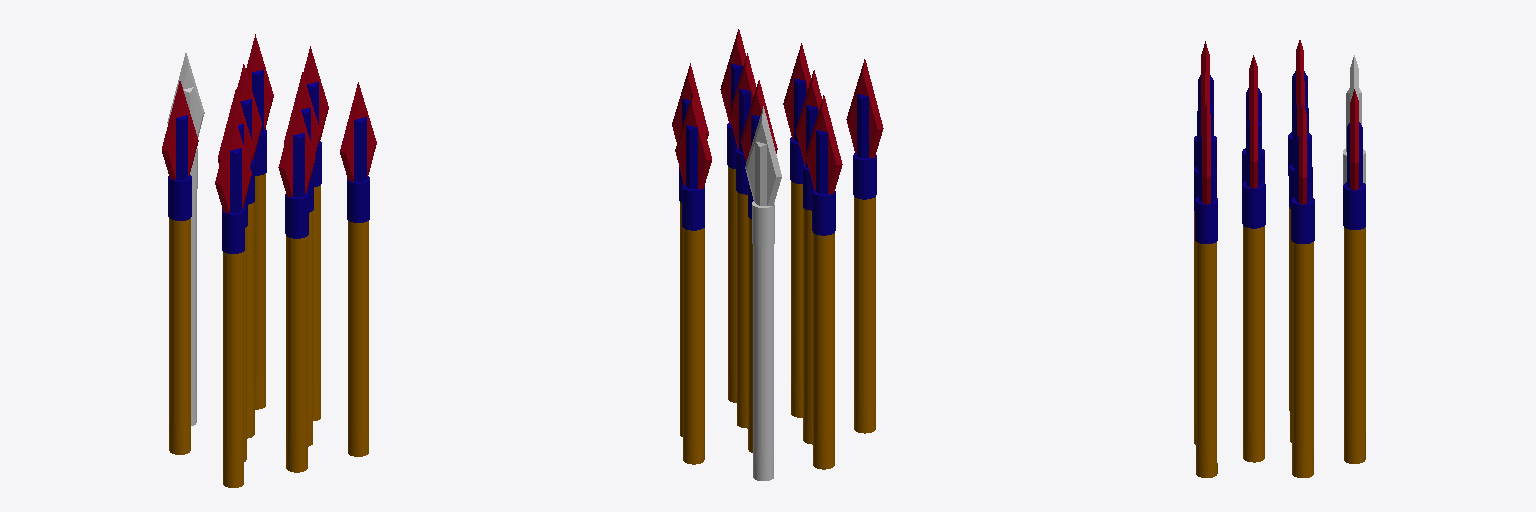
File: spears.obj
The picture shows the model from 3 angles: view 1: azimuth 30°, elevation 25°; view 2: azimuth 150°, elevation 25°; view 3: azimuth 270°, elevation 25°; orthographic projection.
Parts seen in each view (by area): view 1: Spear.001_Spear.004; view 2: Spear.001_Spear.004; view 3: Spear.001_Spear.004.
Part boxes in pixels (bbox=[...]): Spear.001_Spear.004: bbox=[162, 34, 376, 487]; Spear.001_Spear.004: bbox=[672, 29, 883, 480]; Spear.001_Spear.004: bbox=[1194, 40, 1365, 477].
Bounding box in the file's own units: 4.54 × 9.51 × 4.01.